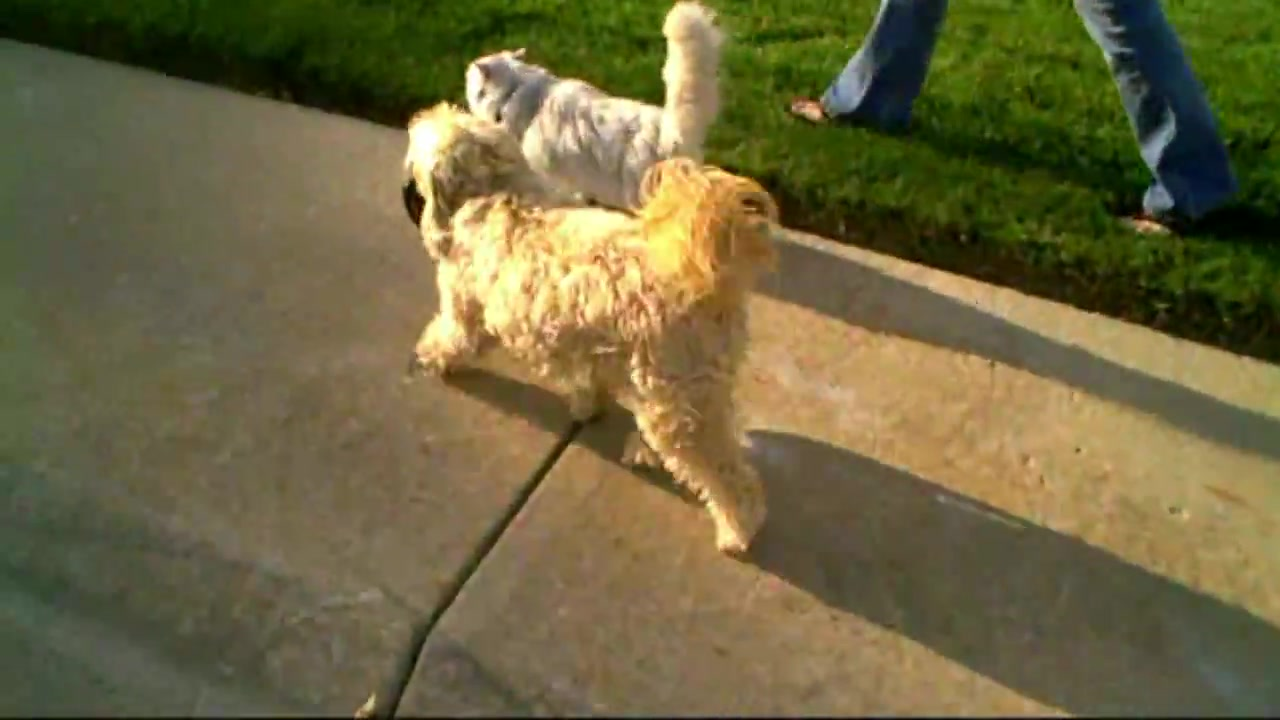dog: (400, 100, 780, 559)
